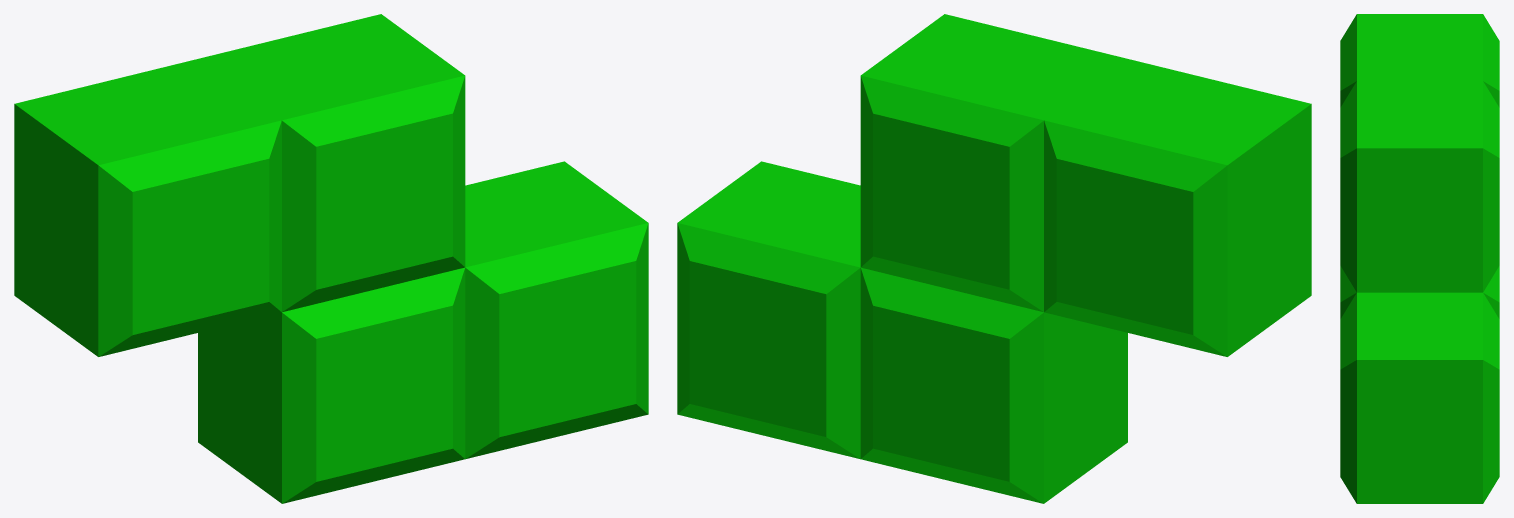
The model's file is SMino.fbx.
3 renders of one model, left to right at view 1: azimuth 30°, elevation 25°; view 2: azimuth 150°, elevation 25°; view 3: azimuth 270°, elevation 25°, orthographic. The views are drawn at different scales.
Visible parts, largest first — view 1: Cube.003; view 2: Cube.003; view 3: Cube.003.
Part boxes in pixels (x1,y1,x2,y2): Cube.003: (14, 14, 648, 503); Cube.003: (677, 14, 1311, 503); Cube.003: (1340, 14, 1499, 503).
Size of the model in its own units: 300 by 200 by 100.
